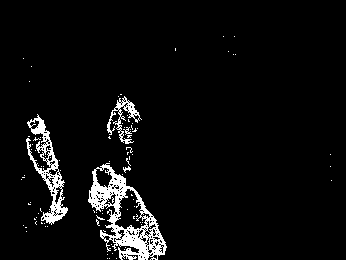person: (89, 164, 166, 260), (25, 116, 67, 222), (107, 94, 139, 174)
